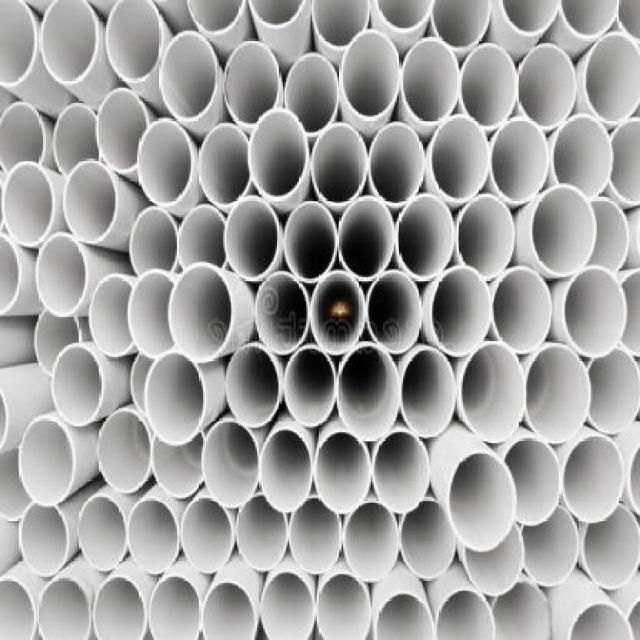pipe: (448, 452, 517, 551), (166, 263, 234, 363), (525, 343, 591, 445), (460, 342, 525, 444), (531, 184, 597, 279), (336, 343, 399, 442), (143, 351, 206, 448), (562, 266, 628, 357), (430, 265, 493, 358), (246, 108, 308, 201), (562, 435, 627, 523), (340, 29, 400, 122), (491, 267, 553, 356), (583, 31, 640, 127), (400, 37, 460, 128), (160, 31, 219, 122), (429, 114, 489, 203), (17, 419, 76, 508), (503, 437, 562, 526), (202, 420, 261, 508), (137, 117, 194, 208), (553, 114, 613, 200), (456, 194, 516, 280), (39, 0, 99, 86), (517, 45, 577, 131), (400, 348, 456, 439), (490, 118, 548, 205), (397, 194, 454, 282), (583, 503, 640, 591), (223, 39, 280, 127), (460, 43, 517, 131), (520, 503, 579, 588), (311, 122, 368, 208), (337, 196, 394, 282), (223, 196, 280, 282), (371, 431, 430, 514), (314, 431, 371, 516), (586, 347, 640, 436), (368, 124, 425, 208), (311, 271, 367, 356), (97, 409, 153, 494), (283, 52, 339, 137), (105, 0, 162, 83), (463, 521, 525, 597), (400, 498, 457, 580), (281, 200, 337, 283), (366, 271, 422, 354), (254, 271, 310, 354), (96, 88, 150, 174), (197, 123, 251, 209), (343, 502, 399, 584), (63, 159, 117, 244), (2, 162, 56, 247), (36, 232, 90, 317), (260, 429, 313, 514), (51, 343, 105, 426), (226, 345, 280, 428), (127, 269, 176, 360), (283, 346, 336, 428), (288, 497, 342, 575), (235, 494, 288, 573), (180, 499, 234, 576), (126, 499, 179, 576), (19, 502, 70, 579), (316, 572, 373, 640), (77, 494, 126, 573), (89, 274, 134, 359), (260, 571, 316, 639), (53, 101, 102, 177), (151, 431, 205, 499), (148, 575, 204, 640), (92, 575, 148, 640), (491, 579, 551, 639), (37, 576, 93, 639), (130, 206, 179, 277), (2, 100, 47, 176), (177, 203, 226, 272), (434, 587, 496, 640), (34, 309, 82, 377), (202, 581, 257, 640), (0, 0, 37, 86), (430, 0, 491, 52), (313, 0, 371, 51), (374, 593, 436, 639), (609, 116, 640, 207), (559, 0, 622, 40), (568, 603, 633, 640), (497, 0, 560, 37), (0, 578, 37, 640), (373, 0, 436, 34), (186, 2, 246, 36), (0, 234, 22, 316)
